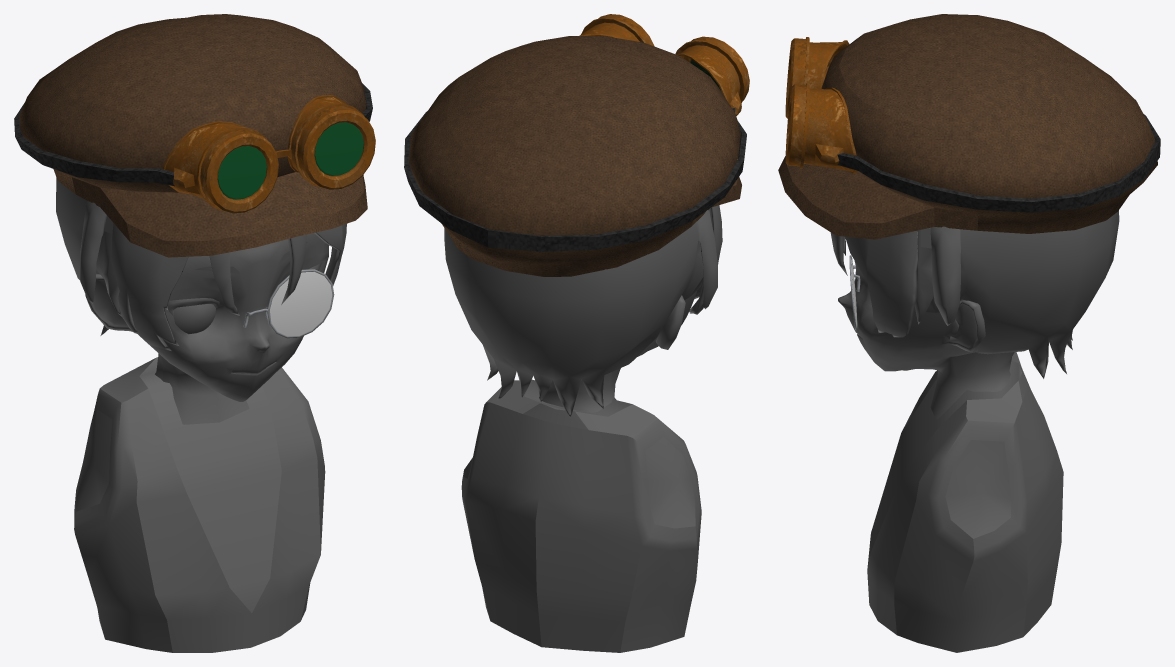
File: Manekinmdl_Hat.fbx
3 views of the same model, side by side, from view 1: azimuth 30°, elevation 25°; view 2: azimuth 150°, elevation 25°; view 3: azimuth 270°, elevation 25° (orthographic). The views are drawn at different scales.
Visible parts, largest first — view 1: Manekin_Hat; view 2: Manekin_Hat; view 3: Manekin_Hat.
Part boxes in pixels (x1=…): Manekin_Hat: x1=14, y1=14, x2=375, y2=652; Manekin_Hat: x1=404, y1=14, x2=749, y2=652; Manekin_Hat: x1=778, y1=14, x2=1160, y2=652.
Size of the model in its own units: 20.13 by 35.02 by 21.54.
